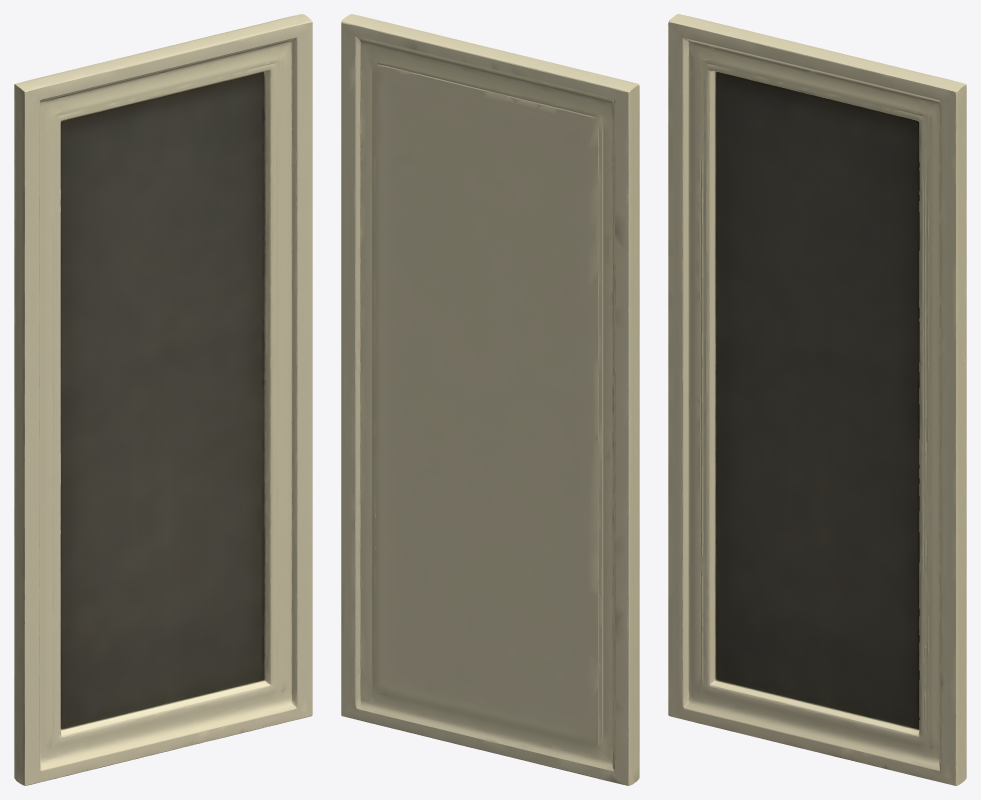
Rendered from mirror.glb.
3 renders of one model, left to right at view 1: azimuth 30°, elevation 25°; view 2: azimuth 150°, elevation 25°; view 3: azimuth 330°, elevation 25°, orthographic.
Parts seen in each view (by area): view 1: model; view 2: model; view 3: model.
Boxes of the visible parts, x1,y1,x2,y2 form: model: (14,14,312,785); model: (341,14,639,785); model: (668,14,966,785).
Bounding box in the file's own units: 0.8259 × 1.9 × 0.055.
1 material, 1 textured.
